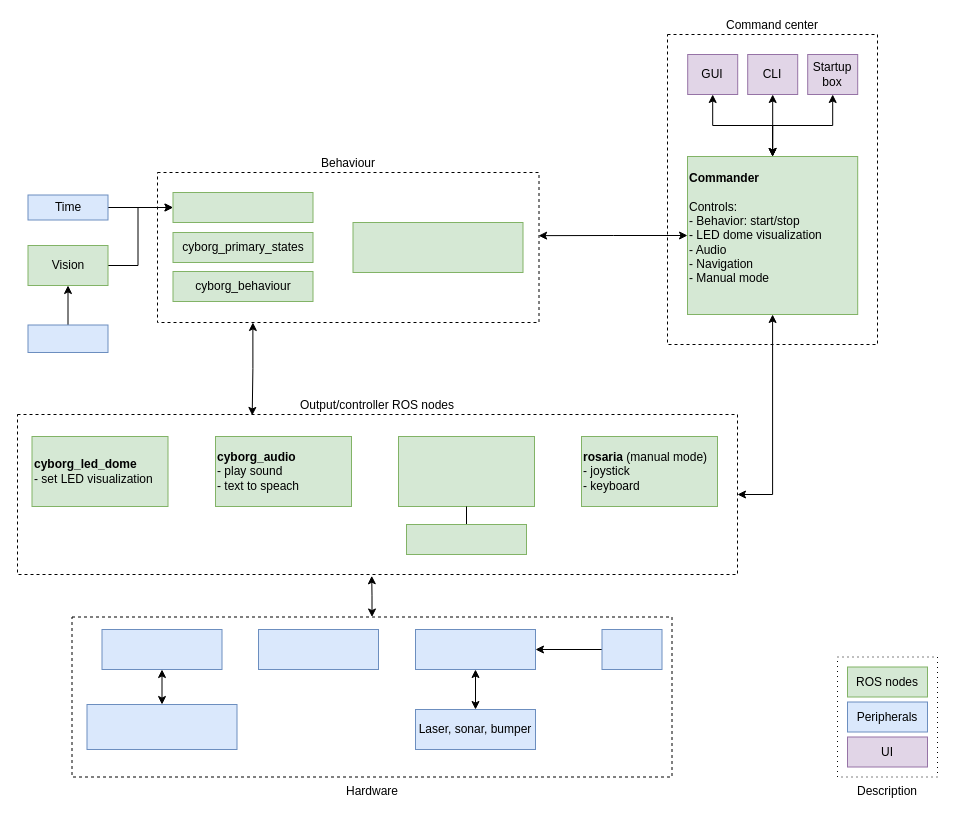
This 955x830 diagram has some shape labels left out. Each missing label, with the centre of its shape:
Arduino - LED: startup visualization: [161,727]
cyborg_controller SMACH state-machine: [437,247]
cyborg_eventscheduler: [242,207]
cyborg_navigation - go to point - wander - dock: [466,471]
Joystick: [631,649]
LED dome: [161,649]
Pioneer LX: [475,649]
rosarnl: [466,539]
Speakers: [318,649]
ZED camera: [67,338]
